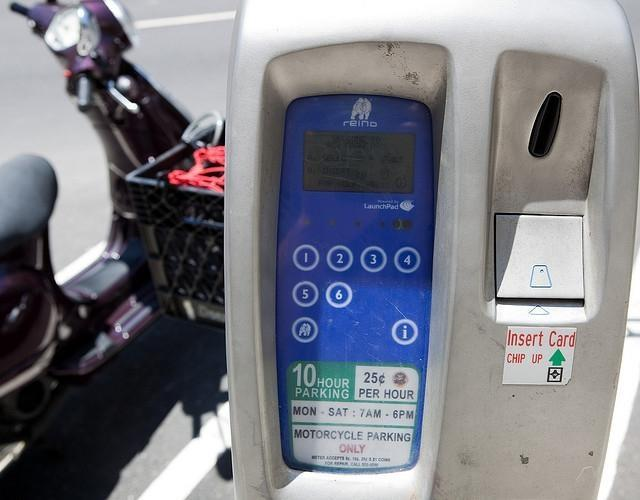motorcycle: (0, 1, 230, 491)
